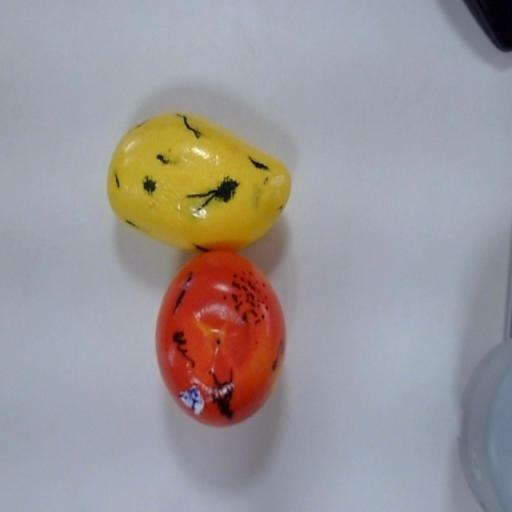Defective: (102, 106, 298, 252), (151, 251, 292, 434)
